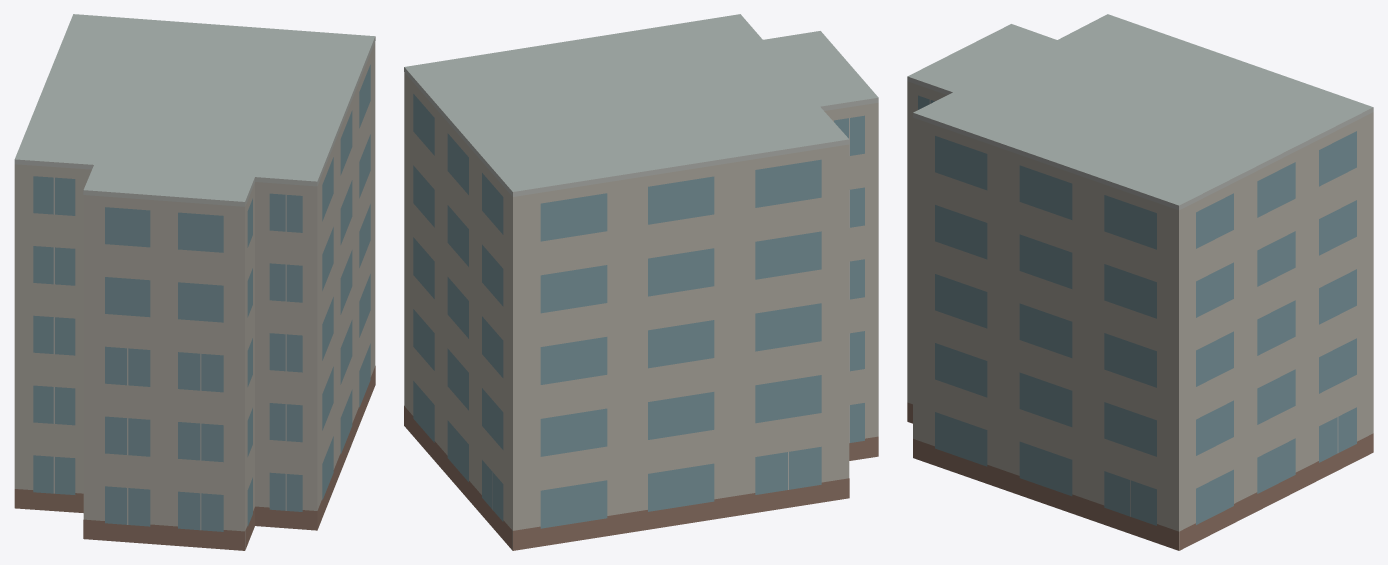
The model's file is survey-upis-32684305.glb.
The picture shows the model from 3 angles, left to right: view 1: azimuth 30°, elevation 25°; view 2: azimuth 150°, elevation 25°; view 3: azimuth 270°, elevation 25°; orthographic projection. The views are drawn at different scales.
Visible parts, largest first — view 1: survey-upis-32684305.tmp; view 2: survey-upis-32684305.tmp; view 3: survey-upis-32684305.tmp.
Part boxes in pixels (box(x1,y1,x2,y2)): survey-upis-32684305.tmp: box(14, 14, 375, 550); survey-upis-32684305.tmp: box(404, 14, 878, 550); survey-upis-32684305.tmp: box(907, 14, 1373, 550).
Bounding box in the file's own units: 20.78 × 17.45 × 21.36.
